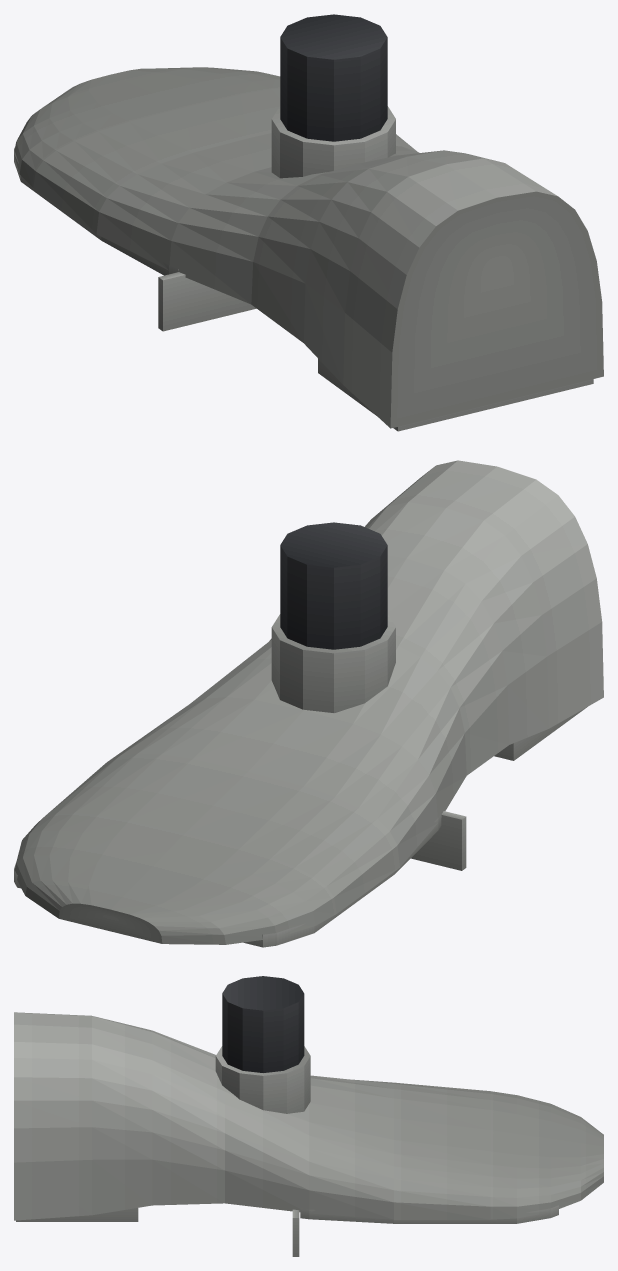
Rendered from streetlight_ltkc2hss.obj.
3 views of the same model, one above another, from view 1: azimuth 30°, elevation 25°; view 2: azimuth 150°, elevation 25°; view 3: azimuth 270°, elevation 25° (orthographic). The views are drawn at different scales.
Parts seen in each view (by area): view 1: fixture; view 2: fixture; view 3: fixture.
Part boxes in pixels (x1,y1,x2,y2): fixture: [14, 14, 603, 431]; fixture: [14, 460, 603, 947]; fixture: [14, 976, 603, 1256].
Size of the model in its own units: 0.3875 by 0.3313 by 0.8551.
